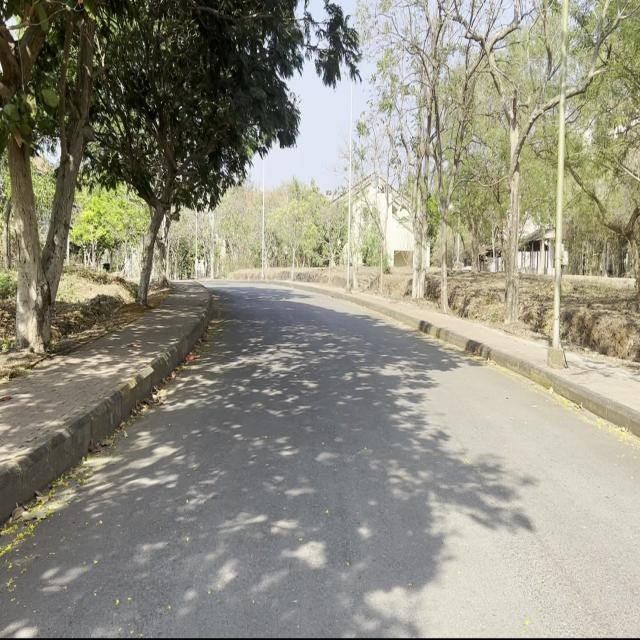Road: (2, 282, 635, 634)
